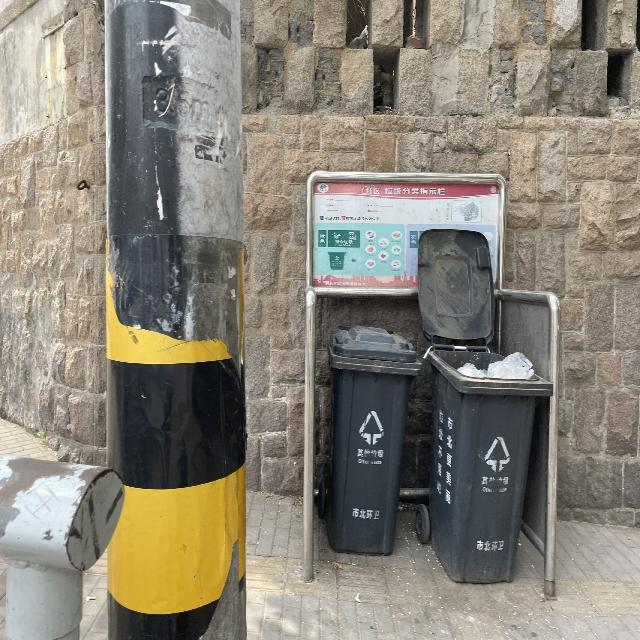garbage_bin: (326, 323, 421, 555)
overflow: (423, 342, 552, 583)
